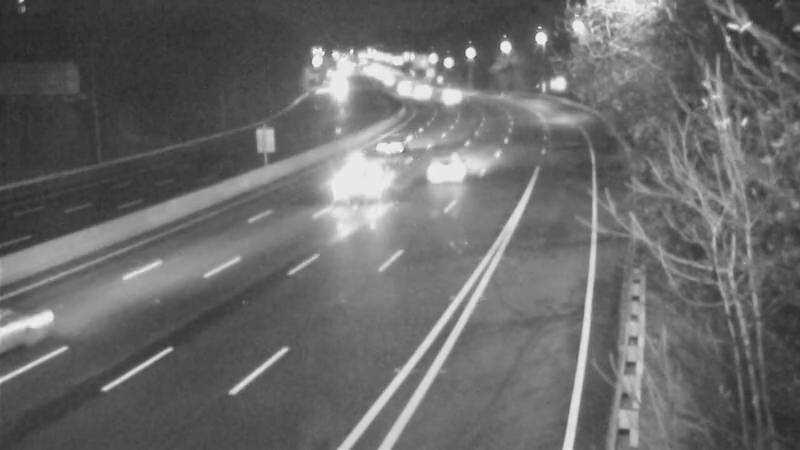vehicle: (1, 266, 86, 376), (407, 122, 487, 202), (330, 138, 410, 218), (430, 71, 480, 121), (365, 125, 415, 175)
